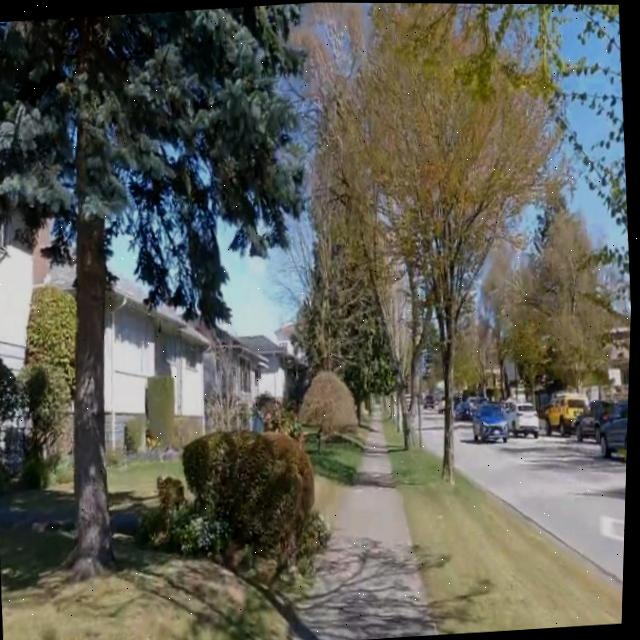Automobile: (547, 393, 588, 433), (602, 400, 631, 456), (476, 401, 509, 441), (579, 413, 598, 439), (457, 396, 475, 419)
Road: (457, 421, 629, 582), (457, 420, 629, 580), (425, 416, 445, 459)
Sidewalk: (302, 409, 437, 640)
